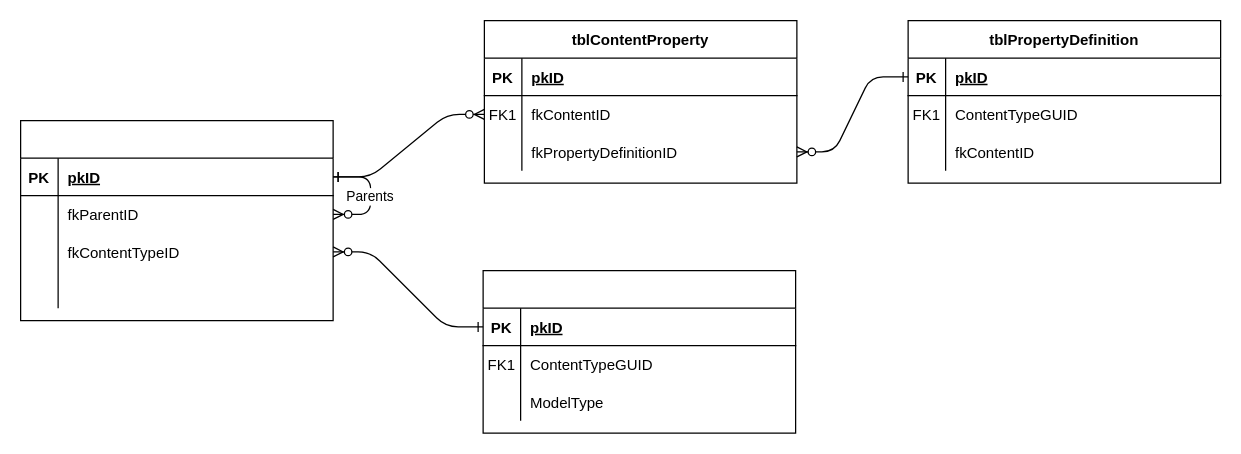
Some shapes in this 1241 by 454 pixel diagram are drawn without their labels. Each missing label, with the box of its shape:
tblContent: (19, 119, 333, 321)
tblContentType: (482, 269, 796, 433)
